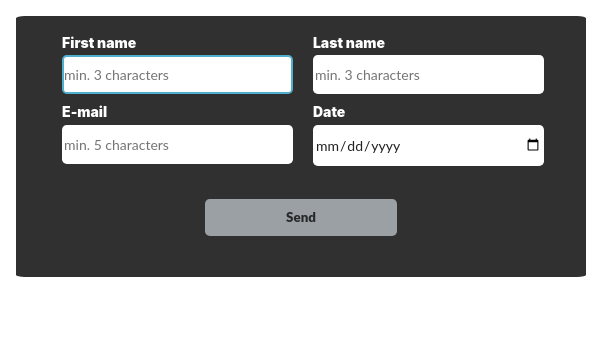
Scenario: INTEGRATION › EventPicker › Inputs filling › Should display the empty input validation error messages when inputs were focused, not filled and blurred
Clear the field labelled "First name" at coordinates (178, 75), box [62, 55, 293, 94]
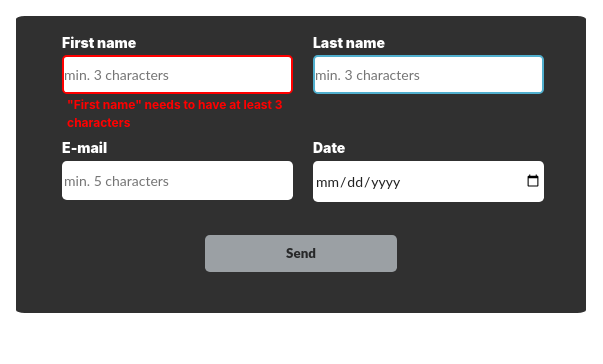
Result: the text "\"First name\" needs to have at least 3 characters" is shown at [62, 94, 289, 132]
Clear the field labelled "Last name" at coordinates (428, 75), box [313, 55, 544, 94]
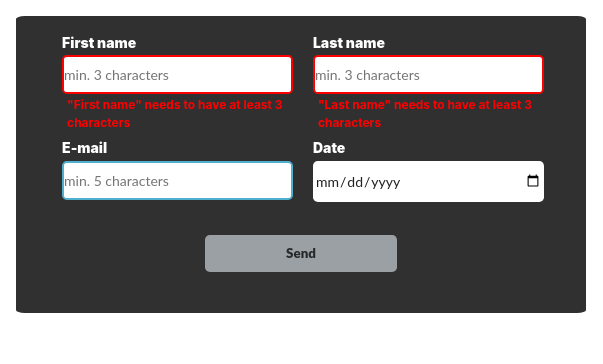
Result: the text "\"Last name\" needs to have at least 3 characters" is shown at [313, 94, 540, 132]
Clear the field labelled "E-mail" at coordinates (178, 180), box [62, 161, 293, 200]
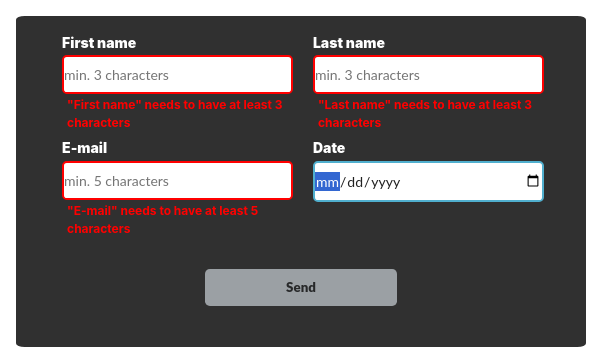
Result: the text "\"E-mail\" needs to have at least 5 characters" is shown at [67, 203, 258, 236]
Clear the date field labelled "Date" at coordinates (428, 181), box [313, 161, 544, 202]
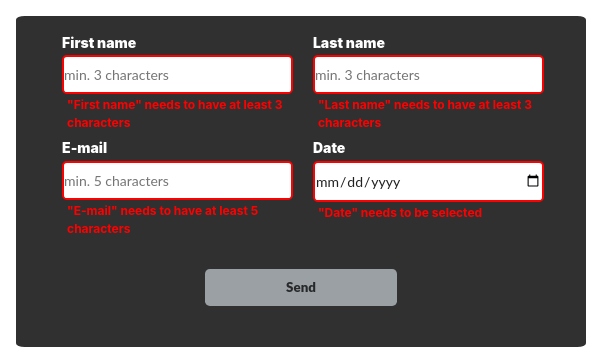
Result: the text "\"Date\" needs to be selected" is shown at [318, 205, 482, 220]
